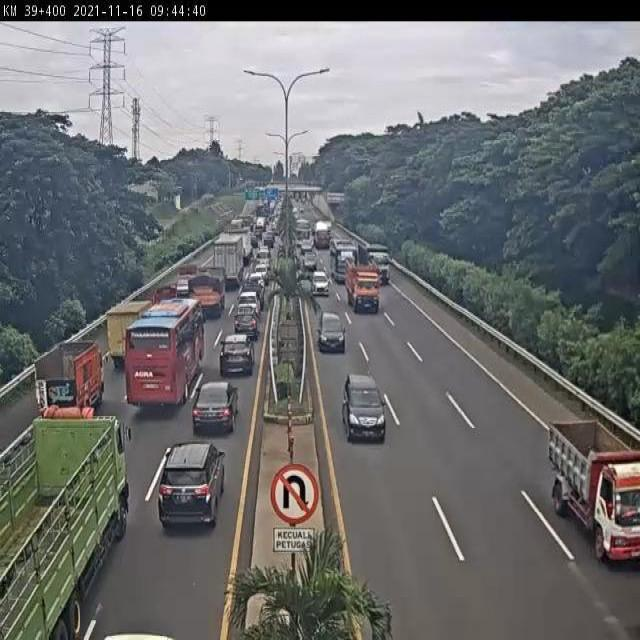car: (157, 445, 223, 536), (342, 376, 387, 443), (191, 384, 236, 437), (218, 333, 253, 375), (316, 311, 346, 353), (232, 312, 259, 339), (310, 269, 332, 296), (238, 292, 260, 316)
truck: (0, 413, 134, 640), (546, 419, 640, 565), (123, 297, 201, 408), (35, 339, 105, 412), (105, 299, 155, 371), (185, 267, 226, 316), (212, 231, 247, 287), (347, 263, 382, 312)
